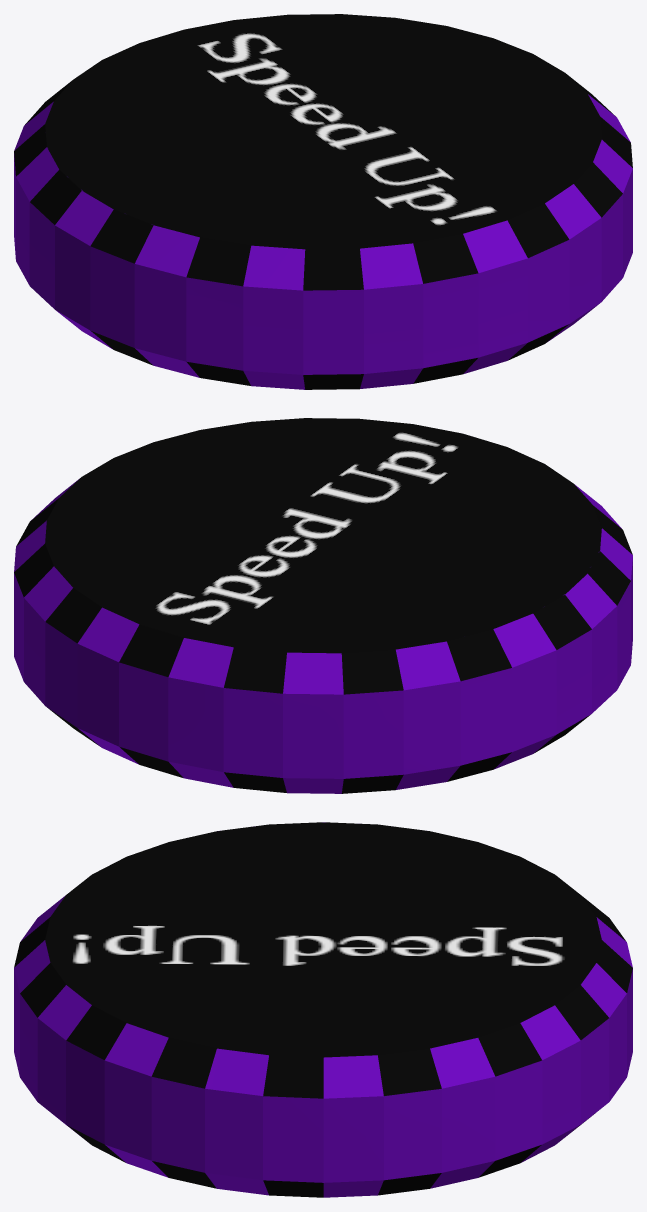
The model's file is Speed_Up.fbx.
The picture shows the model from 3 angles, top to bottom: view 1: azimuth 30°, elevation 25°; view 2: azimuth 150°, elevation 25°; view 3: azimuth 270°, elevation 25°; orthographic projection.
Parts seen in each view (by area): view 1: Cylinder; view 2: Cylinder; view 3: Cylinder.
Part boxes in pixels (bbox=[...]): Cylinder: bbox=[14, 14, 632, 389]; Cylinder: bbox=[14, 418, 632, 793]; Cylinder: bbox=[14, 822, 632, 1197].
Bounding box in the file's own units: 200 × 50 × 200.
1 material, 1 textured.
